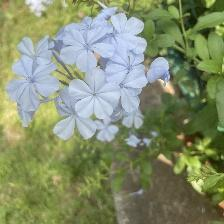chitrak: (69, 68, 126, 130), (8, 55, 58, 111), (61, 24, 112, 67), (112, 46, 149, 90), (109, 14, 146, 52), (18, 34, 53, 64)
